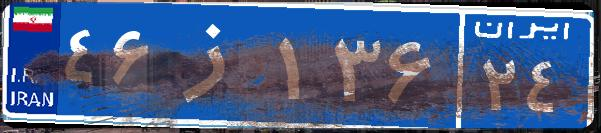1: (273, 28, 330, 110)
2: (475, 38, 525, 113)
3: (330, 28, 385, 110)
4: (57, 26, 110, 107), (525, 38, 570, 115)
6: (385, 28, 445, 110), (110, 28, 158, 105)
ز: (158, 15, 273, 115)
